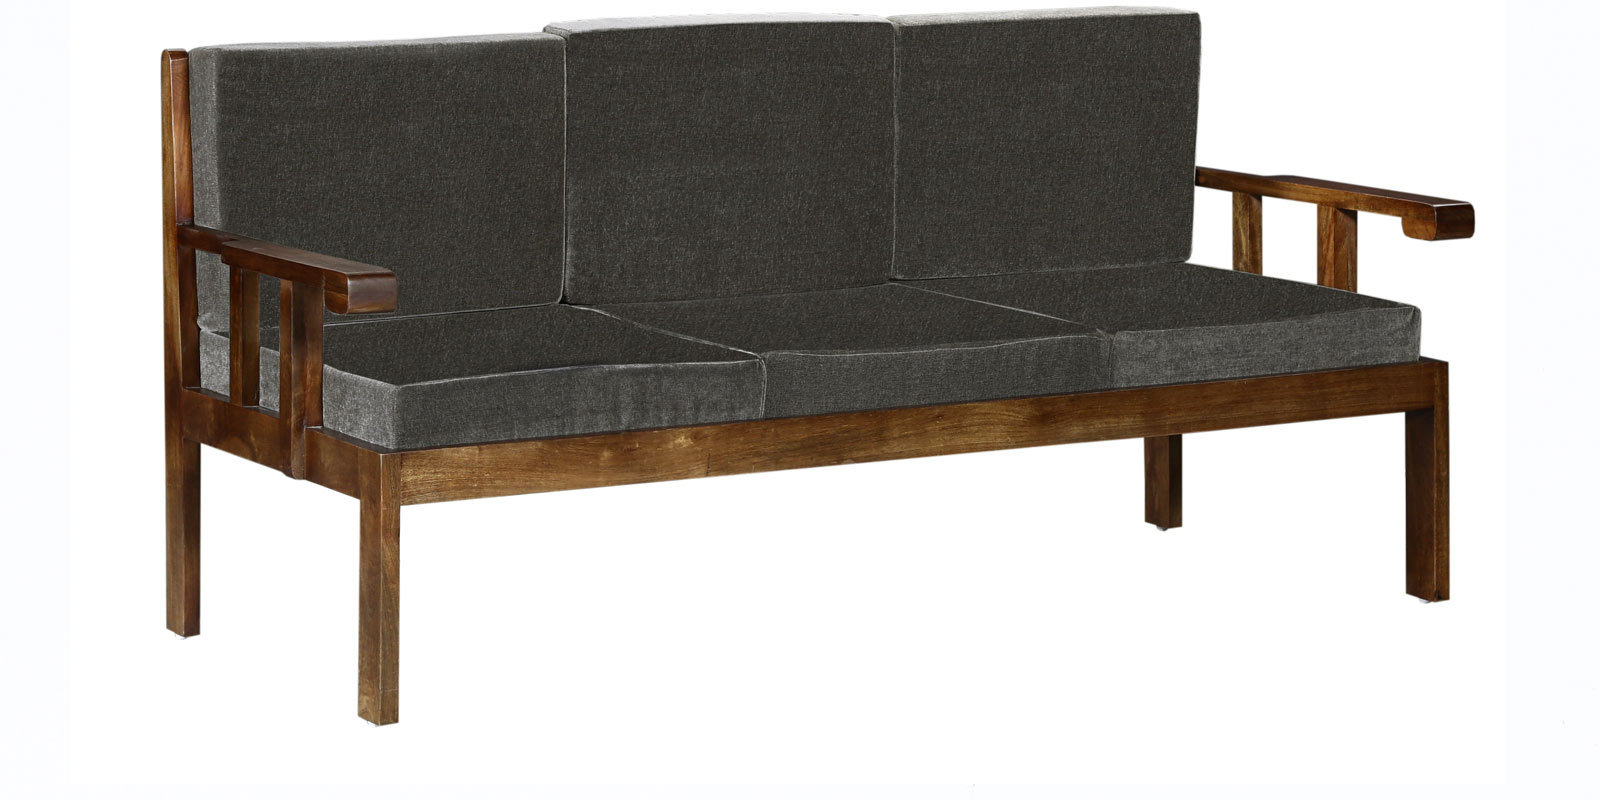Corvallis Three Seater Sofa in Provincial Teak Finish by Woodsworth: (128, 4, 1480, 728)
